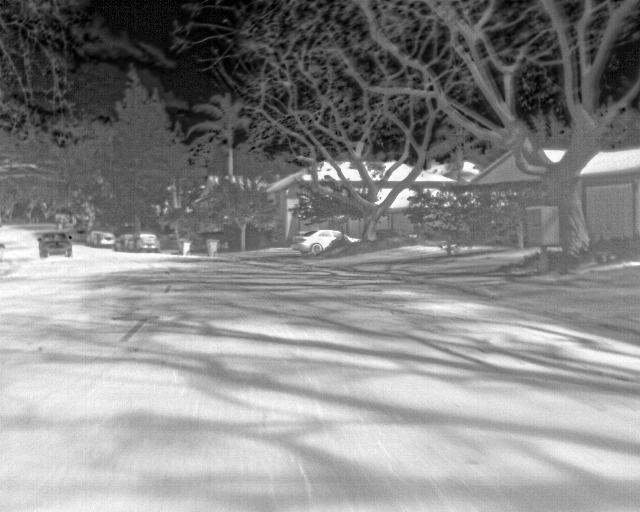car: (291, 226, 361, 254), (38, 229, 73, 258), (132, 232, 162, 254), (111, 232, 137, 251), (96, 230, 116, 246), (82, 227, 99, 243)
